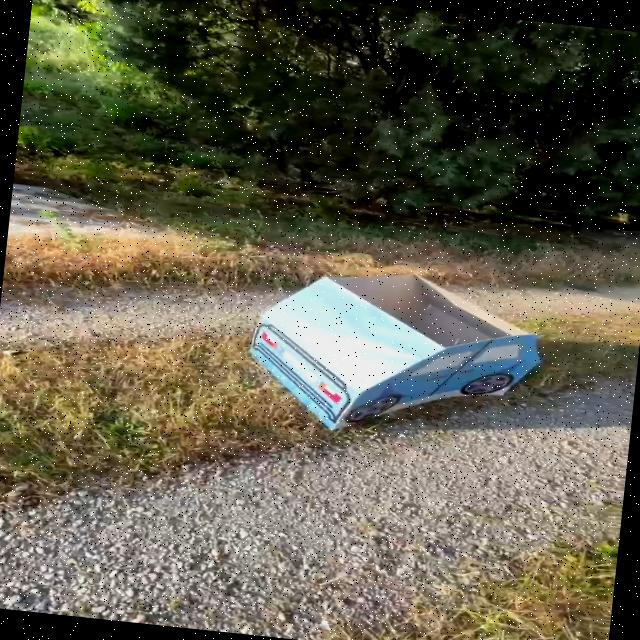blue_car: (202, 243, 569, 464)
